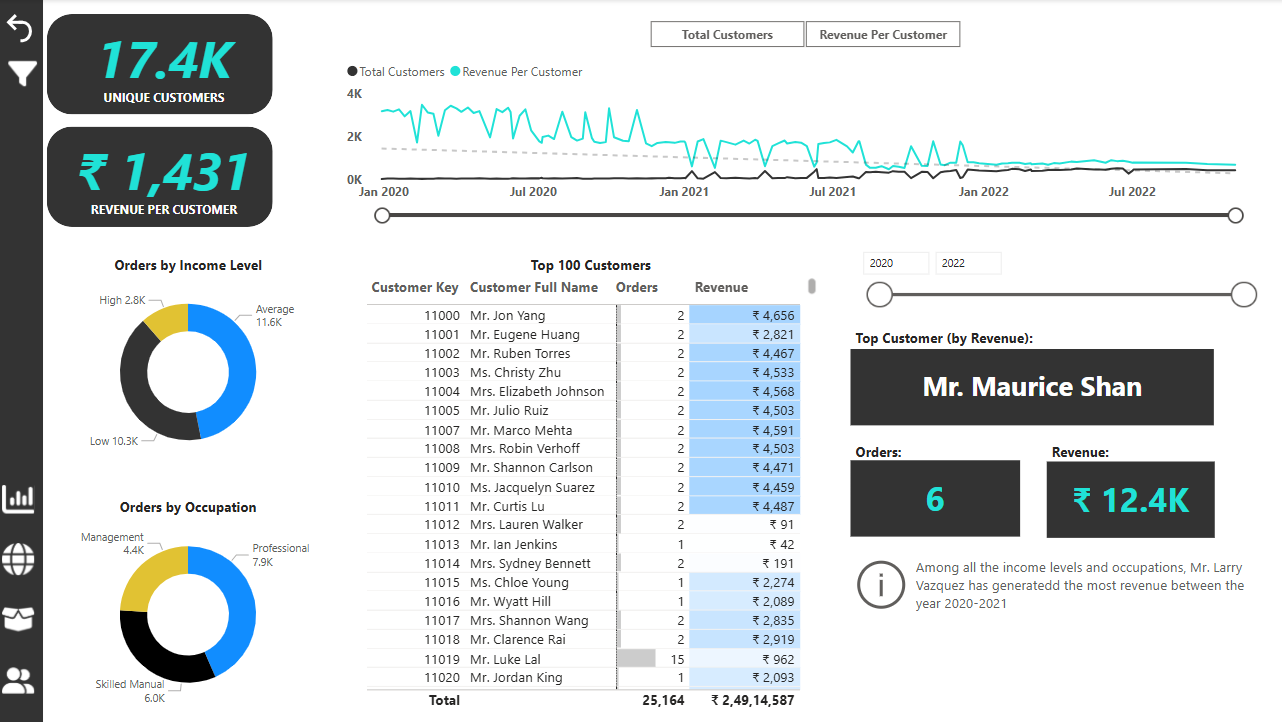

This screenshot's page, from the dashboard's own definition file:
{"tool":"powerbi","page":{"name":"Customer Detail","canvas":[1280,720],"ordinal":3},"visuals":[{"type":"shape","box":[48.5,15,225,100],"z":0},{"type":"actionButton","box":[0.3,478.1,59.9,40.4],"z":0,"group":"g1"},{"type":"shape","box":[48.5,126.5,225,100],"z":1000},{"type":"actionButton","box":[0.3,538,59.9,40.4],"z":1000,"group":"g1"},{"type":"shape","title":"Left Nav Background","box":[0,0,45,720],"z":2000},{"type":"actionButton","box":[0.3,597.9,59.9,40.4],"z":2000,"group":"g1"},{"type":"card","fields":{"Values":["Measure Table.Total Customers"]},"box":[48.5,0,233.8,130],"z":3000},{"type":"actionButton","box":[0.3,657.9,59.9,40.4],"z":3000,"group":"g1"},{"type":"card","fields":{"Values":["Measure Table.Average Revenue Per Customer"]},"box":[48.5,111.5,233.8,130],"z":4000},{"type":"lineChart","title":"Weekly Customers","fields":{"Y":["Measure Table.Total Customers","Measure Table.Average Revenue Per Customer"],"Category":["Calendar Lookup.Date Jeirarchy.Start of Year","Calendar Lookup.Date Jeirarchy.Start of Month","Calendar Lookup.Date Jeirarchy.Start of Week","Calendar Lookup.Date Jeirarchy.Date"]},"box":[342.4,52.6,918.3,173.6],"z":5000},{"type":"donutChart","title":"Orders by Income Level","fields":{"Category":["Customer Lookup.Income Level"],"Y":["Measure Table.Total Orders"]},"box":[57.5,255.6,264.1,215.2],"z":6000},{"type":"donutChart","title":"Orders by Occupation","fields":{"Y":["Measure Table.Total Orders"],"Category":["Customer Lookup.Occupation"]},"box":[57.5,496.5,264.1,215.2],"z":7000},{"type":"card","fields":{"Values":["Min(Customer Lookup.Full Name)"]},"box":[848.6,348.2,362,75.8],"z":8000},{"type":"card","fields":{"Values":["Measure Table.Total Orders"]},"box":[848.6,458.6,168.8,75.8],"z":9000},{"type":"card","fields":{"Values":["Measure Table.Total Revenue"]},"box":[1043.1,460.7,167.5,75.8],"z":10000},{"type":"textbox","box":[848.6,323.4,214,35.5],"z":11000},{"type":"textbox","box":[848.6,437.1,64.8,33],"z":12000},{"type":"textbox","box":[1043.1,437.1,105.2,34.2],"z":13000},{"type":"slicer","fields":{"Values":["Calendar Lookup.Year"]},"box":[848.6,240.9,412.1,77],"z":14000},{"type":"actionButton","box":[848.6,552.7,412.1,61.1],"z":15000},{"type":"actionButton","box":[2.4,9.8,55,37.9],"z":16000},{"type":"group","id":"g1","title":"Navigation Bar","box":[0.3,478.1,59.9,220.1],"z":17000},{"type":"tableEx","title":"Top 100 Customers","fields":{"Values":["Customer Lookup.CustomerKey","Customer Lookup.Full Name","Measure Table.Total Orders","Measure Table.Total Revenue"]},"box":[360.7,255.6,458.6,456.1],"z":18000},{"type":"slicer","fields":{"Values":["Customer Metric Selection.Customer Metric Selection"]},"box":[623.6,14.7,358.3,37.9],"z":19500},{"type":"actionButton","box":[6.1,56.3,55,36.7],"z":19501}]}

Visuals, with their boxes on the page's 1280x720 design canvas (x1, y1, x2, y2). These are canvas units, not pixel positions in the 1282x722 screenshot, which may show the page scaled, cropped or inside an application window:
shape: pyautogui.locateOnScreen(48, 15, 274, 115)
actionButton: pyautogui.locateOnScreen(0, 478, 60, 518)
shape: pyautogui.locateOnScreen(48, 126, 274, 226)
actionButton: pyautogui.locateOnScreen(0, 538, 60, 578)
"Left Nav Background" shape: pyautogui.locateOnScreen(0, 0, 45, 720)
actionButton: pyautogui.locateOnScreen(0, 598, 60, 638)
card - Measure Table.Total Customers: pyautogui.locateOnScreen(48, 0, 282, 130)
actionButton: pyautogui.locateOnScreen(0, 658, 60, 698)
card - Measure Table.Average Revenue Per Customer: pyautogui.locateOnScreen(48, 112, 282, 242)
"Weekly Customers" lineChart: pyautogui.locateOnScreen(342, 53, 1261, 226)
"Orders by Income Level" donutChart: pyautogui.locateOnScreen(58, 256, 322, 471)
"Orders by Occupation" donutChart: pyautogui.locateOnScreen(58, 496, 322, 712)
card - Min(Customer Lookup.Full Name): pyautogui.locateOnScreen(849, 348, 1211, 424)
card - Measure Table.Total Orders: pyautogui.locateOnScreen(849, 459, 1017, 534)
card - Measure Table.Total Revenue: pyautogui.locateOnScreen(1043, 461, 1211, 536)
textbox: pyautogui.locateOnScreen(849, 323, 1063, 359)
textbox: pyautogui.locateOnScreen(849, 437, 913, 470)
textbox: pyautogui.locateOnScreen(1043, 437, 1148, 471)
slicer - Calendar Lookup.Year: pyautogui.locateOnScreen(849, 241, 1261, 318)
actionButton: pyautogui.locateOnScreen(849, 553, 1261, 614)
actionButton: pyautogui.locateOnScreen(2, 10, 57, 48)
"Navigation Bar" group: pyautogui.locateOnScreen(0, 478, 60, 698)
"Top 100 Customers" tableEx: pyautogui.locateOnScreen(361, 256, 819, 712)
slicer - Customer Metric Selection.Customer Metric Selection: pyautogui.locateOnScreen(624, 15, 982, 53)
actionButton: pyautogui.locateOnScreen(6, 56, 61, 93)
